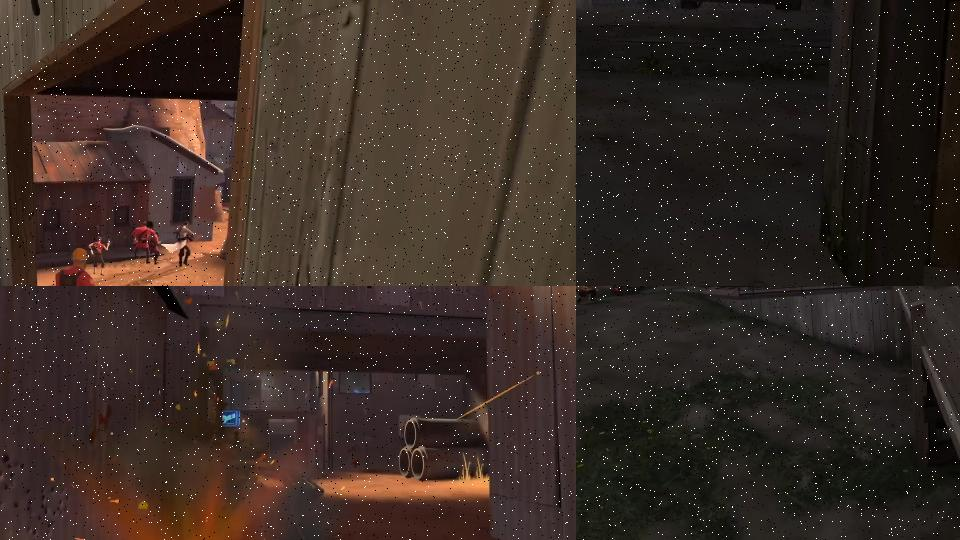Enemy: (52, 246, 110, 286), (161, 219, 194, 268), (130, 220, 154, 265), (87, 236, 111, 278), (146, 230, 163, 264), (576, 286, 603, 304)
